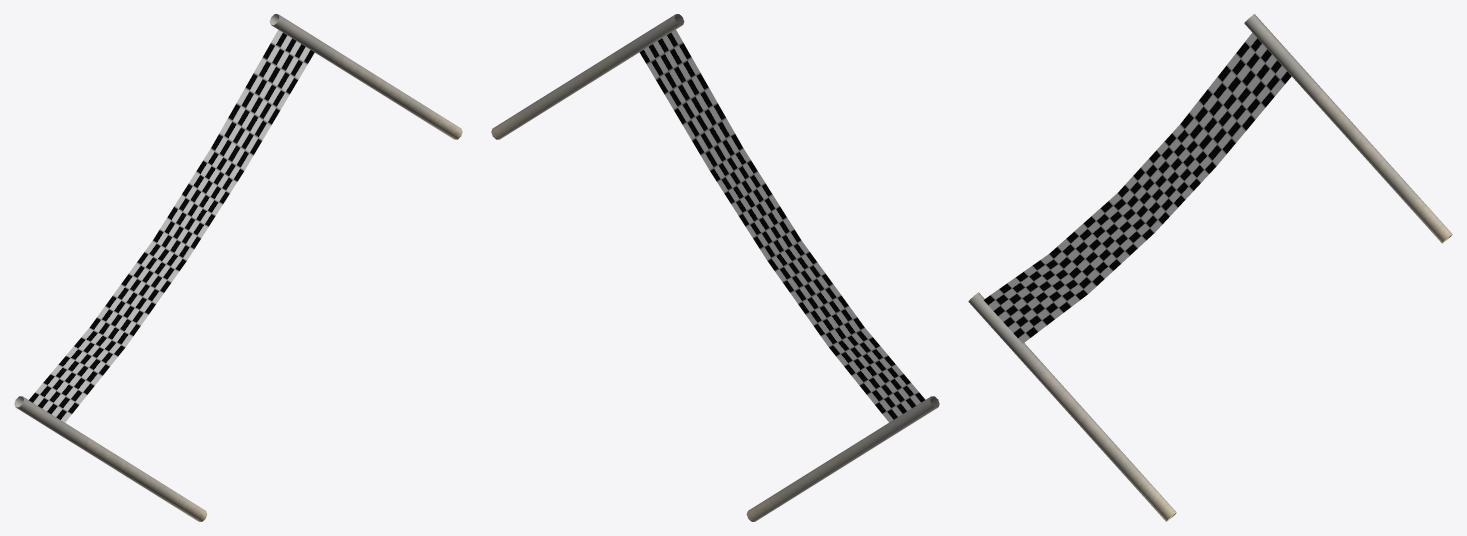
Rendered from decorations.obj.
3 views of the same model, side by side, from view 1: azimuth 30°, elevation 25°; view 2: azimuth 150°, elevation 25°; view 3: azimuth 330°, elevation 25° (orthographic). The views are drawn at different scales.
Parts seen in each view (by area): view 1: pole; view 2: pole; view 3: pole.
Part boxes in pixels (x1,y1,x2,y2): pole: (14, 14, 462, 521); pole: (491, 14, 939, 521); pole: (968, 14, 1452, 521).
Size of the model in its own units: 12.66 by 13.25 by 0.325.
